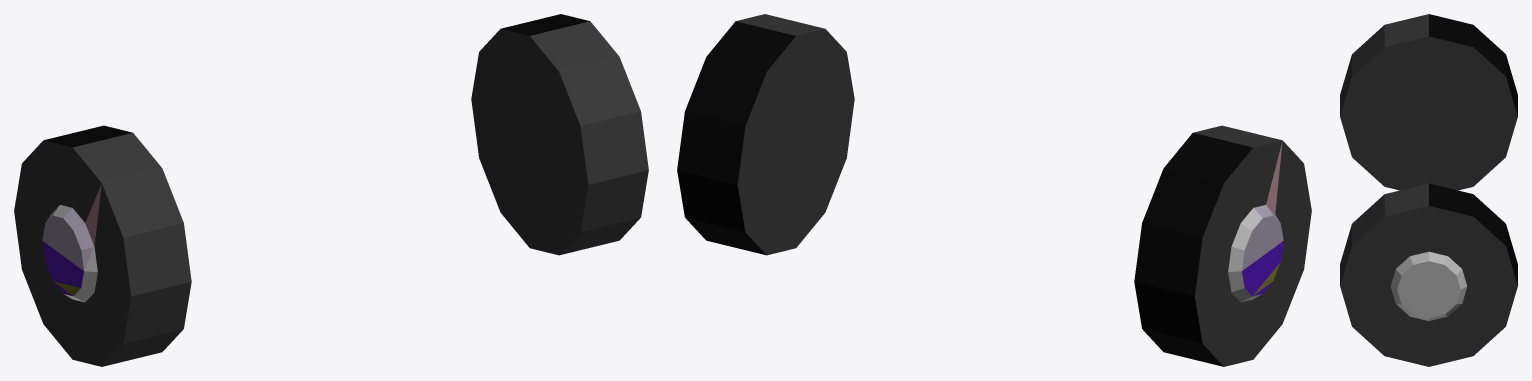
Rendered from backWheels.obj.
The picture shows the model from 3 angles, left to right: view 1: azimuth 30°, elevation 25°; view 2: azimuth 150°, elevation 25°; view 3: azimuth 270°, elevation 25°; orthographic projection. The views are drawn at different scales.
Visible parts, largest first — view 1: tire.047_Colore_0.002; view 2: tire.047_Colore_0.002; view 3: tire.047_Colore_0.002.
Part boxes in pixels (x1,y1,x2,y2): tire.047_Colore_0.002: (14, 14, 648, 366); tire.047_Colore_0.002: (677, 14, 1311, 366); tire.047_Colore_0.002: (1340, 14, 1517, 366).
Size of the model in its own units: 1.92 by 0.7248 by 0.7248.
1 material, 1 textured.
